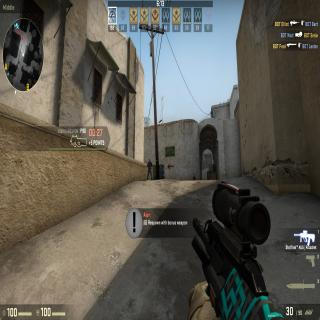T-Body: (146, 158, 153, 181)
T-Head: (149, 158, 151, 162)
